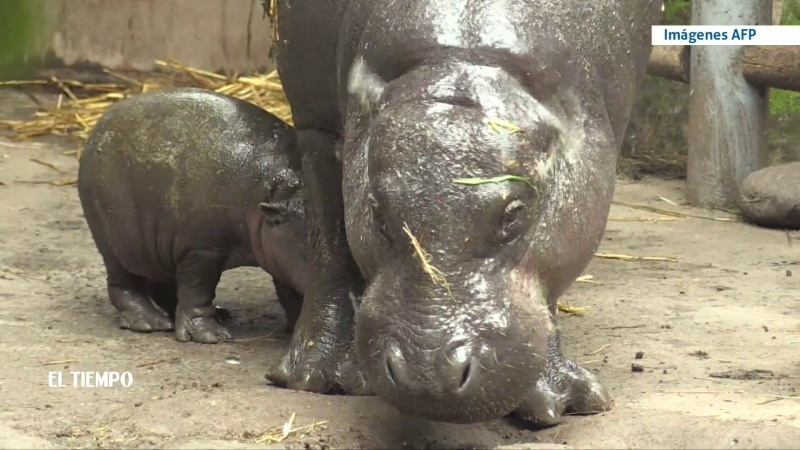hipopotamo: (259, 1, 649, 442), (70, 85, 347, 360)
